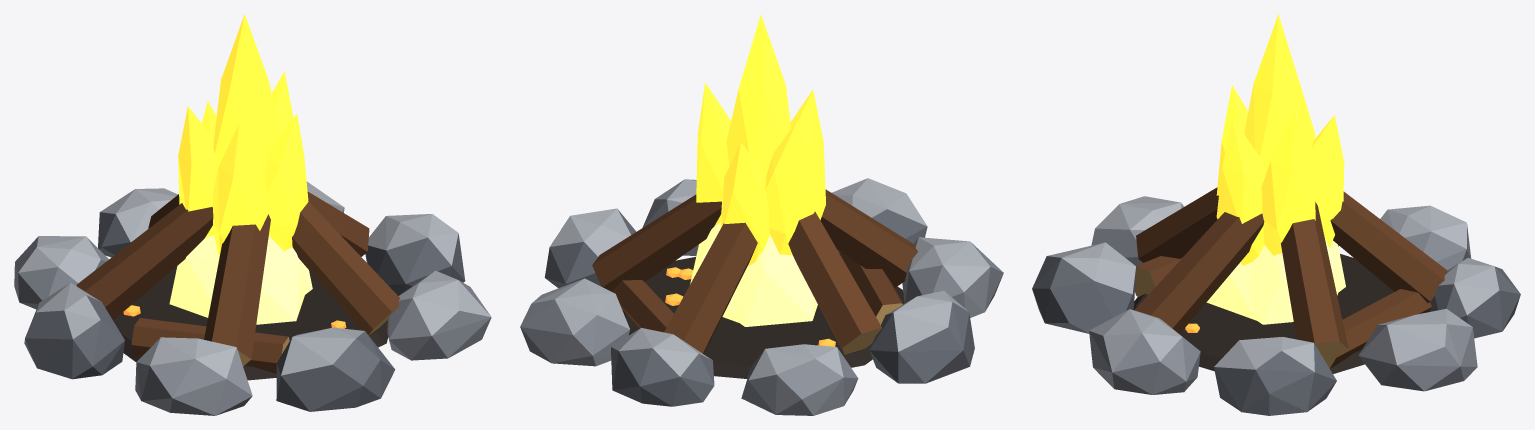
Rendered from Prop_Campfire.fbx.
3 renders of one model, left to right at view 1: azimuth 30°, elevation 25°; view 2: azimuth 150°, elevation 25°; view 3: azimuth 270°, elevation 25°, orthographic.
Parts seen in each view (by area): view 1: Prop_Campfire; view 2: Prop_Campfire; view 3: Prop_Campfire.
Boxes of the visible parts, x1=… form: Prop_Campfire: x1=14, y1=14, x2=491, y2=415; Prop_Campfire: x1=520, y1=14, x2=1003, y2=415; Prop_Campfire: x1=1032, y1=14, x2=1520, y2=415.
Size of the model in its own units: 1.25 by 0.86 by 1.27.
